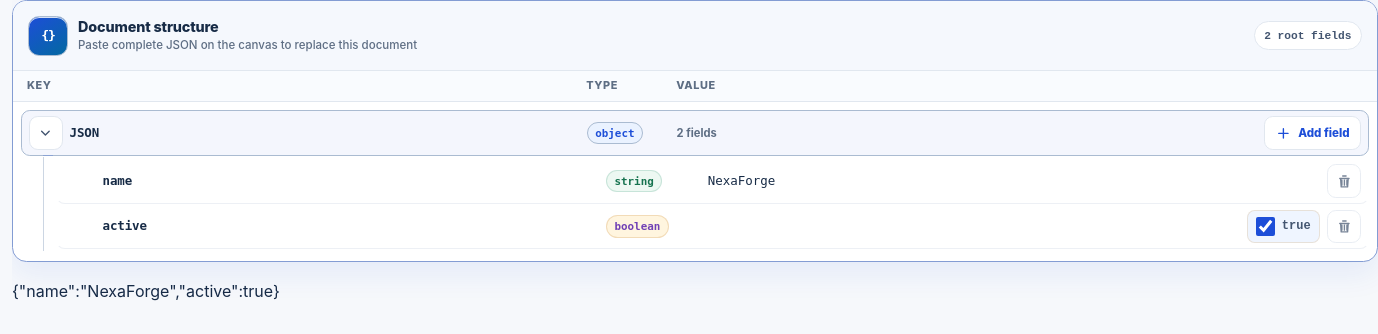
Test: JsonTreeEditor › offers a one-step undo after removing a node
This screenshot has width=1378, height=334.
Click the button named "Remove name": click(1344, 181) [1327,164,1361,198]
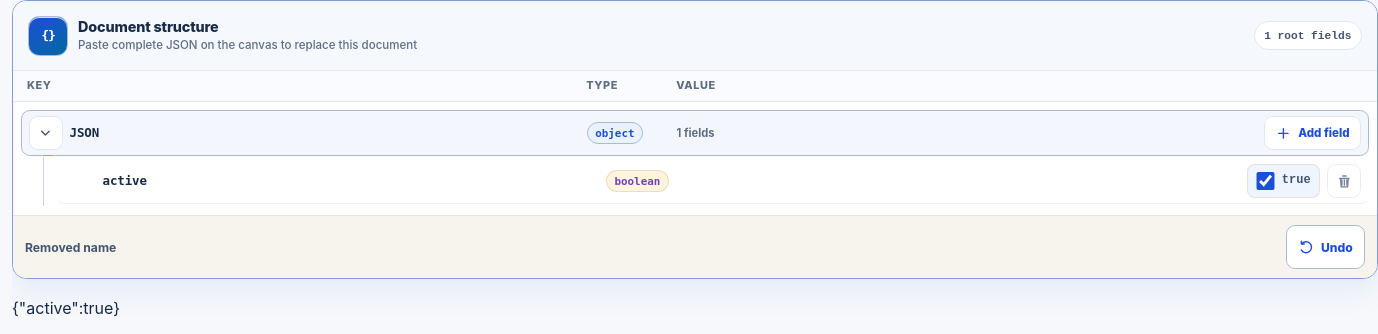
Now the text "Value for name" is gone
Now the message shows "Removed name", box [25,240,116,255]
Click the button "Undo": click(1326, 247) [1286,225,1365,269]
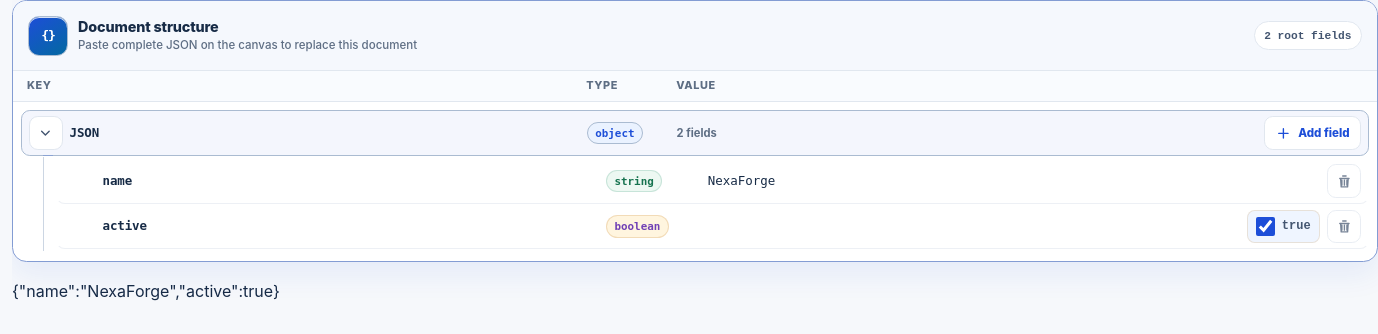
Now the field named "Value for name" holds "NexaForge", box [696,164,1320,198]
